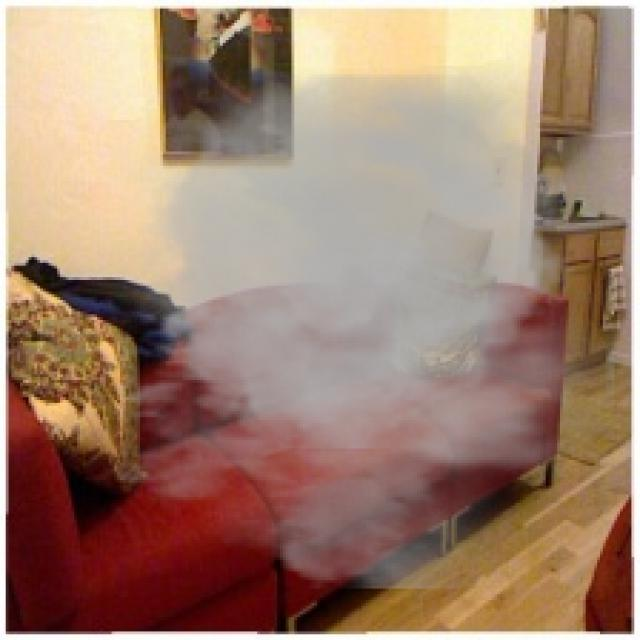smoke: (63, 43, 614, 588)
